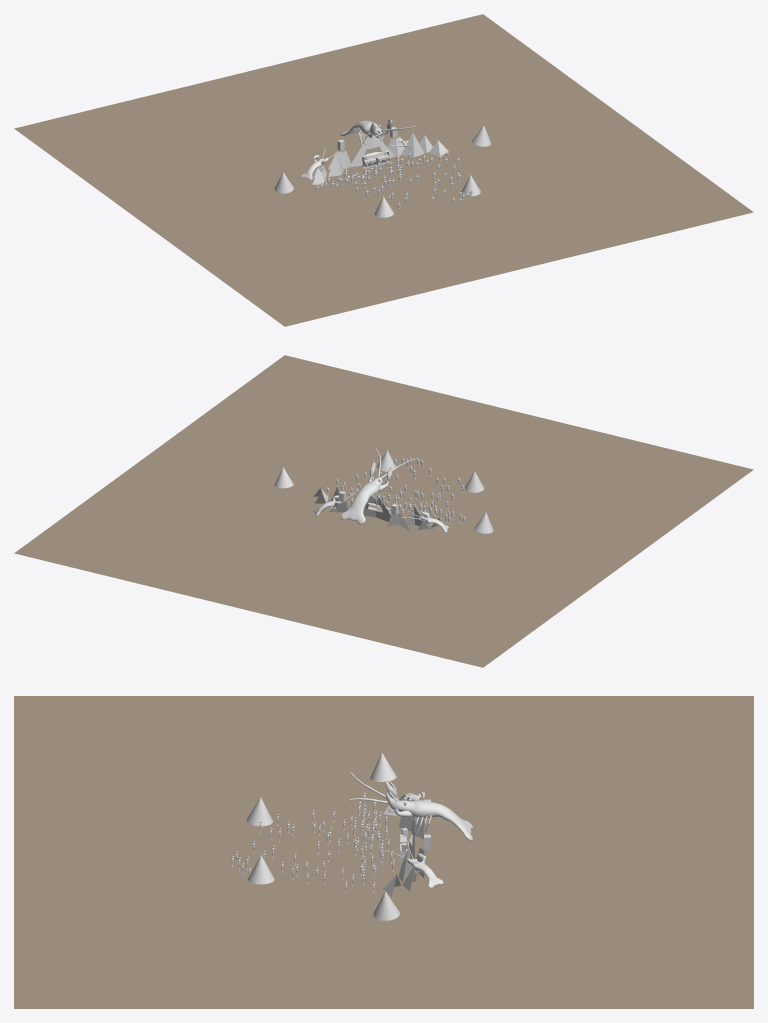
File: koura_model_v1.fbx
3 views of the same model, one above another, from view 1: azimuth 30°, elevation 25°; view 2: azimuth 150°, elevation 25°; view 3: azimuth 270°, elevation 25° (orthographic). The views are drawn at different scales.
Visible parts, largest first — view 1: Ground, stage; view 2: Ground, stage, Koura_body; view 3: Ground, stage, Koura_body, mini koura 2.
Part boxes in pixels (bbox=[...]): Ground: bbox=[14, 14, 753, 326]; stage: bbox=[312, 132, 448, 184]; Ground: bbox=[14, 355, 753, 667]; stage: bbox=[314, 487, 449, 532]; Koura_body: bbox=[340, 477, 382, 524]; Ground: bbox=[14, 696, 753, 1008]; stage: bbox=[383, 797, 424, 896]; Koura_body: bbox=[396, 800, 473, 841]; mini koura 2: bbox=[383, 840, 443, 887].
Bounding box in the file's own units: 10 × 1.01 × 10.
